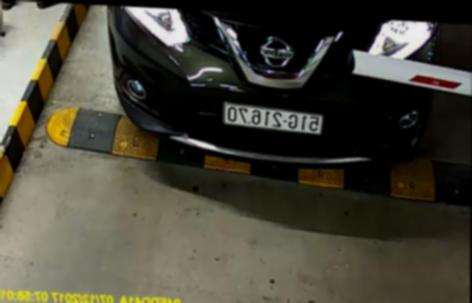License_Plate: (216, 99, 326, 137)
